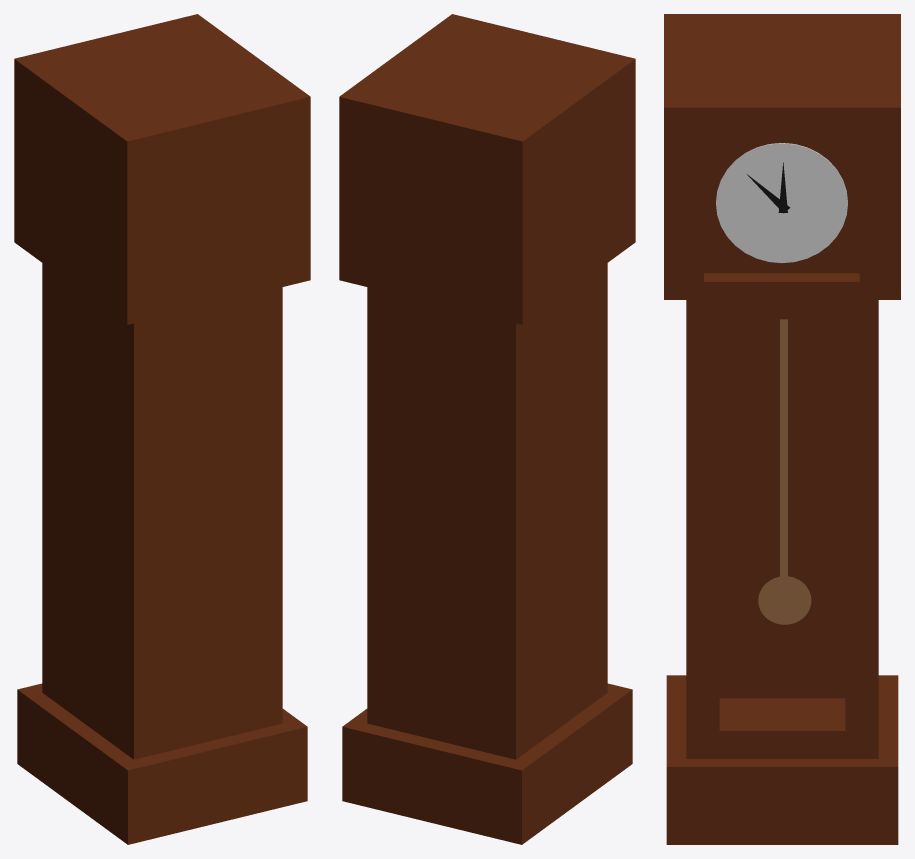
Rendered from Clock.fbx.
3 views of the same model, side by side, from view 1: azimuth 30°, elevation 25°; view 2: azimuth 150°, elevation 25°; view 3: azimuth 270°, elevation 25° (orthographic). The views are drawn at different scales.
Parts seen in each view (by area): view 1: Cube.063; view 2: Cube.063; view 3: Cube.063, Circle.013, Circle.014.
Part boxes in pixels (x1,y1,x2,y2): Cube.063: [14, 14, 310, 844]; Cube.063: [339, 14, 635, 844]; Cube.063: [664, 14, 900, 844]; Circle.013: [716, 143, 847, 262]; Circle.014: [758, 319, 811, 624].
Size of the model in its own units: 143 by 526 by 153.
